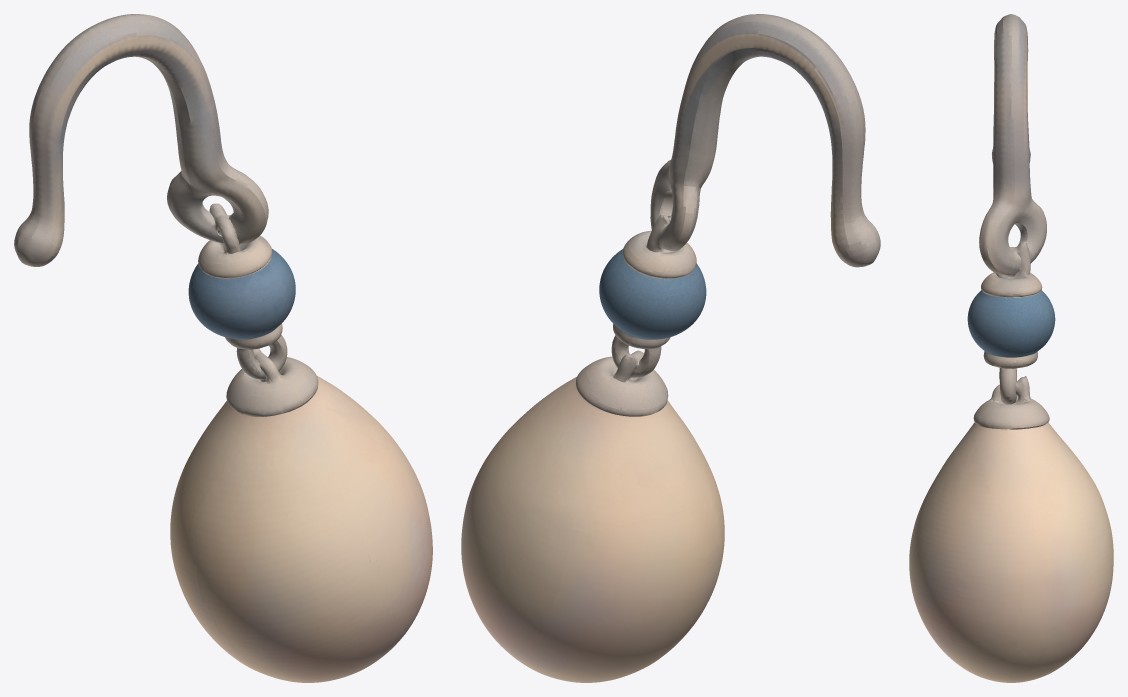
File: Meshy_AI_Pearl_Drop_Earring_1122030228_texture.glb
The picture shows the model from 3 angles, left to right: view 1: azimuth 30°, elevation 25°; view 2: azimuth 150°, elevation 25°; view 3: azimuth 270°, elevation 25°; orthographic projection. The views are drawn at different scales.
Visible parts, largest first — view 1: Mesh0; view 2: Mesh0; view 3: Mesh0.
Boxes of the visible parts, <box> form: Mesh0: <box>14,14,432,682</box>; Mesh0: <box>461,14,880,682</box>; Mesh0: <box>909,14,1113,682</box>.
Bounding box in the file's own units: 1.14 × 1.9 × 0.6128.
1 material, 1 textured.
